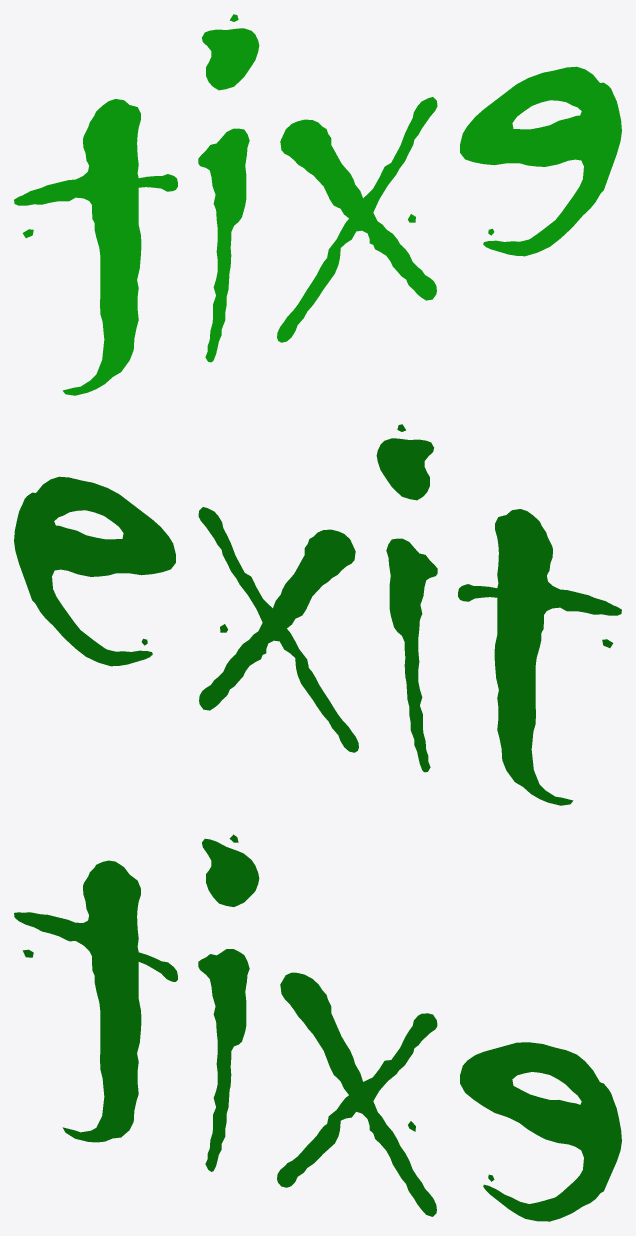
The model's file is ExitButtonText.obj.
The picture shows the model from 3 angles, top to bottom: view 1: azimuth 30°, elevation 25°; view 2: azimuth 150°, elevation 25°; view 3: azimuth 330°, elevation 25°; orthographic projection.
Visible parts, largest first — view 1: ExitButtonText; view 2: ExitButtonText; view 3: ExitButtonText.
Part boxes in pixels (x1=…): ExitButtonText: x1=14, y1=14, x2=621, y2=395; ExitButtonText: x1=14, y1=424, x2=621, y2=805; ExitButtonText: x1=14, y1=834, x2=621, y2=1221.
Bounding box in the file's own units: 0.9344 × 0.5036 × 0.
